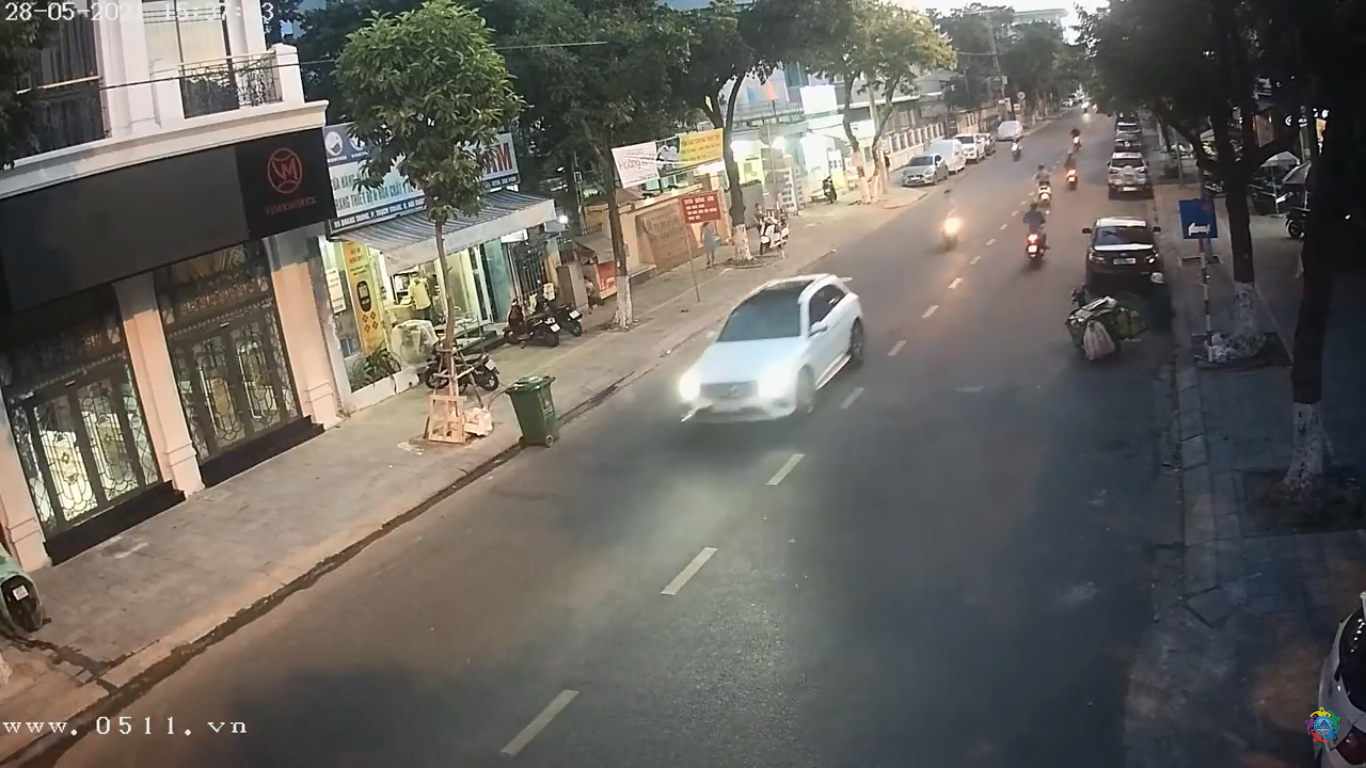car: (669, 274, 871, 429)
